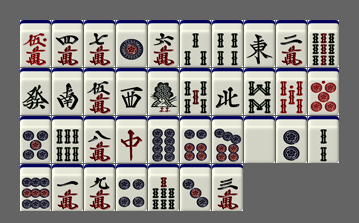0m: (20, 20, 51, 67)
0p: (308, 68, 339, 115)
0s: (276, 68, 307, 115)
1m: (52, 164, 83, 211)
1p: (116, 20, 147, 67)
1s: (148, 68, 179, 115)
1z: (244, 20, 275, 67)
2m: (276, 20, 307, 67)
2p: (276, 116, 307, 163)
2s: (308, 116, 339, 163)
2z: (52, 68, 83, 115)
3m: (212, 164, 243, 211)
3p: (180, 164, 211, 211)
3s: (180, 20, 211, 67)
3z: (116, 68, 147, 115)
4m: (52, 20, 83, 67)
4p: (116, 164, 147, 211)
4s: (212, 20, 243, 67)
4z: (212, 68, 243, 115)
5m: (84, 68, 115, 115)
5p: (20, 116, 51, 163)
5s: (180, 68, 211, 115)
5z: (244, 116, 275, 163)
6m: (148, 20, 179, 67)
6p: (180, 116, 211, 163)
6s: (52, 116, 83, 163)
6z: (20, 68, 51, 115)
7m: (84, 20, 115, 67)
7p: (212, 116, 243, 163)
7s: (148, 164, 179, 211)
7z: (116, 116, 147, 163)
8m: (84, 116, 115, 163)
8p: (148, 116, 179, 163)
8s: (244, 68, 275, 115)
9m: (84, 164, 115, 211)
9p: (20, 164, 51, 211)
9s: (308, 20, 339, 67)
